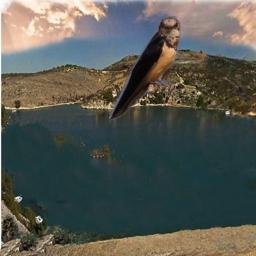Swallow: (109, 16, 181, 123)
